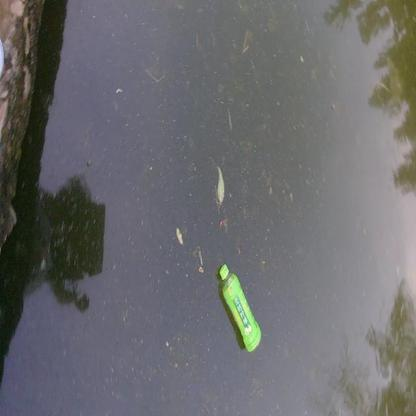plastic bottle: (219, 263, 262, 352)
